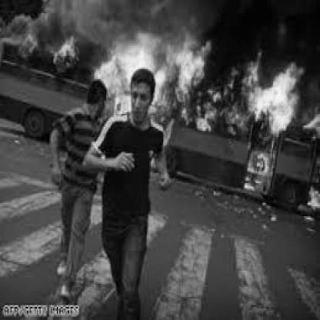Fire: (306, 185, 318, 209)
